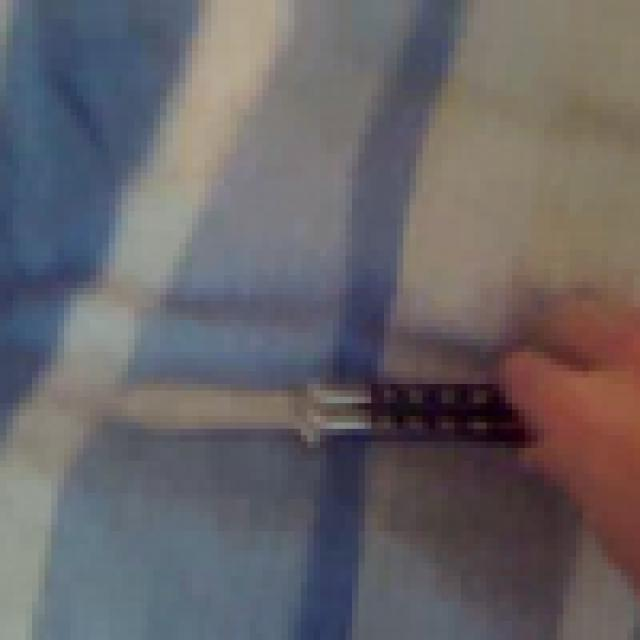Weapons: (42, 355, 553, 468)
